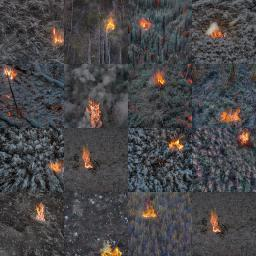Small fire: (84, 99, 106, 125), (216, 106, 244, 125), (45, 26, 66, 51), (136, 202, 161, 221), (208, 209, 225, 236), (98, 12, 116, 37), (80, 146, 95, 175), (27, 203, 45, 226), (95, 243, 126, 256), (152, 70, 169, 91), (207, 26, 227, 43), (235, 127, 252, 146), (46, 159, 66, 175), (3, 64, 19, 81), (138, 15, 152, 34), (171, 140, 187, 151)
